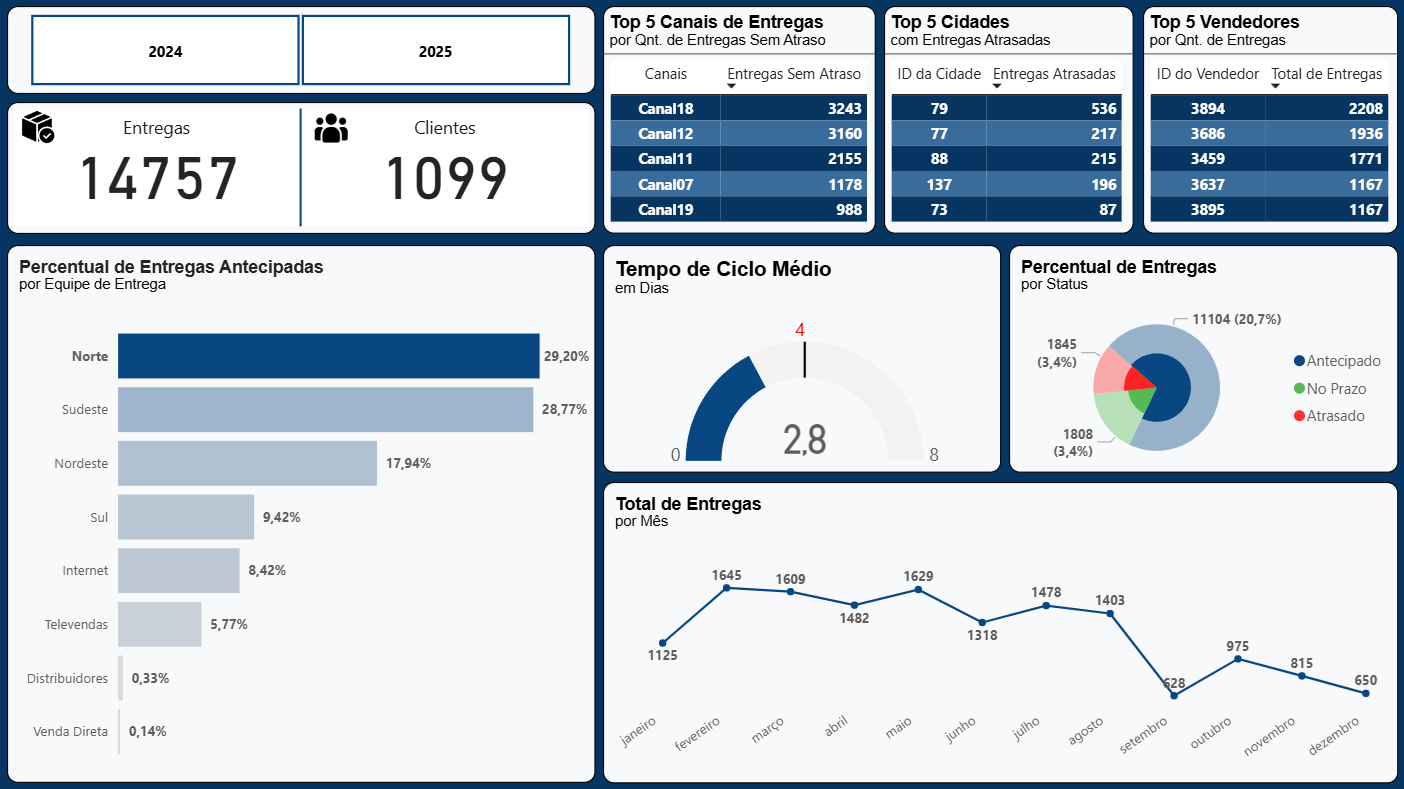

Layout of this report page (visuals, bound fields, positions):
{"tool":"powerbi","page":{"name":"Dashboard","canvas":[1280,720],"ordinal":0},"visuals":[{"type":"tableEx","title":"Top 5 Canais de Entregas","fields":{"Values":["Logistica.Canal_Entrega","Tabela.Entregas_no_Prazo"]},"box":[550,7.3,248.2,207.3],"z":0},{"type":"barChart","title":"Percentual de Entregas Antecipadas","fields":{"Category":["Logistica.Equipe_Entrega"],"Y":["Medidas.Entregas_Antecipadas"]},"box":[8.2,224.5,535.5,489.1],"z":1000},{"type":"lineChart","title":"Total de Entregas","fields":{"Y":["Medidas.Total_Entregas"],"Category":["Logistica.Data_Entrega_Realizada.Variation.Hierarquia de datas.Mês"]},"box":[550,440,722.7,273.6],"z":2000},{"type":"tableEx","title":"Top 5 Vendedores","fields":{"Values":["Logistica.ID_Vendedor","Tabela.Total_Entregas"]},"box":[1040.9,7.3,231.8,207.3],"z":3000},{"type":"tableEx","title":"Top 5 Cidades","fields":{"Values":["Logistica.ID_Cidade","Tabela.Entragas_Atrasadas"]},"box":[805.5,7.3,227.3,207.3],"z":4000},{"type":"pieChart","title":"Percentual de Entregas","fields":{"Category":["Logistica.Status_Entrega"],"Y":["Divide(CountNonNull(Logistica.Status_Entrega), ScopedEval(CountNonNull(Logistica.Status_Entrega), []))"]},"box":[919.1,224.5,353.6,207.3],"z":5000},{"type":"gauge","title":"Tempo de Ciclo Médio","fields":{"Y":["Avg(Logistica.Dias_Entrega)"]},"box":[550,224.5,361.8,207.3],"z":6000},{"type":"cardVisual","title":"Entregas","fields":{"Data":["Medidas.Total_Entregas","Count(Logistica.ID_Cliente)"]},"box":[8.2,94.9,535.5,119.6],"z":7000,"group":"g1"},{"type":"slicer","title":"Selecione o Período","fields":{"Values":["Logistica.Data_Entrega_Realizada.Variation.Hierarquia de datas.Ano"]},"box":[8.2,7.3,534.5,80],"z":8000},{"type":"image","box":[8.2,94.5,55.4,46],"z":9000,"group":"g1"},{"type":"image","box":[280.6,98.1,44.7,39.7],"z":10000,"group":"g1"},{"type":"group","id":"g1","title":"Grupo 1","box":[8.2,94.5,535.5,120],"z":10001}]}

Visuals, with their boxes in screenshot pixels (x1, y1, x2, y2), scaled from the page's 1280x720 canvas onto the 1404x789 screenshot:
"Top 5 Canais de Entregas" tableEx: 603/8/876/235
"Percentual de Entregas Antecipadas" barChart: 9/246/596/782
"Total de Entregas" lineChart: 603/482/1396/782
"Top 5 Vendedores" tableEx: 1142/8/1396/235
"Top 5 Cidades" tableEx: 884/8/1133/235
"Percentual de Entregas" pieChart: 1008/246/1396/473
"Tempo de Ciclo Médio" gauge: 603/246/1000/473
"Entregas" cardVisual: 9/104/596/235
"Selecione o Período" slicer: 9/8/595/96
image: 9/104/70/154
image: 308/108/357/151
"Grupo 1" group: 9/104/596/235
